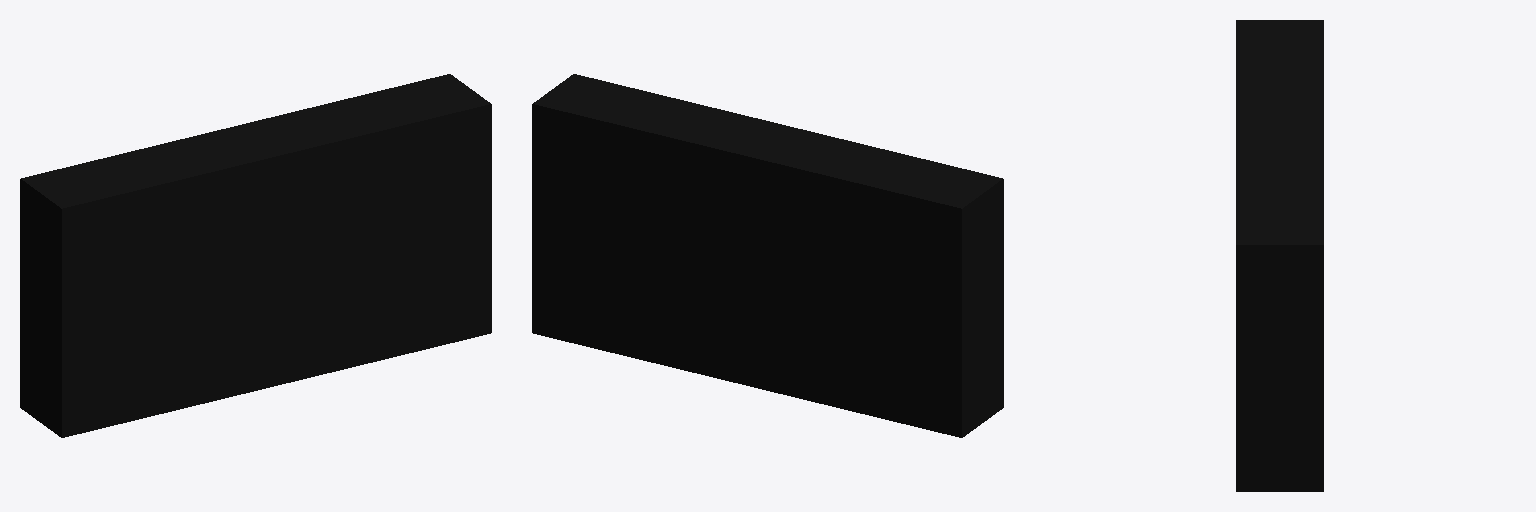
URDF robot description (rhex):
<?xml version="1.0" ?>

<robot name="rhex">
	<link name="body">
		<collision group="default">
        	<origin rpy="0 0 0" xyz="0 0 0"/>
        	<geometry>
    			<box size="0.960 .160 .490"/>
        	</geometry>
      		</collision>
		<inertial>
		<mass value="40" />
  		<inertia ixx="3.29" ixy="0" ixz="0" iyy="3.16" iyz="0" izz="6.27" />
		</inertial>
  		<visual>
          	<origin rpy="0 0 0" xyz="0 0 0"/>
          	<geometry>
            	<box size="0.960 .160 .490"/>
          	</geometry>
			<material name="darkgray">
    			<color rgba="0.1 0.1 0.1 1.0"/>
  			</material>
  		</visual>
  	</link>

</robot>

--- Render facts (derived) ---
Views: 3 orthographic renders of the robot side by side, from view 1: azimuth 30°, elevation 25°; view 2: azimuth 150°, elevation 25°; view 3: azimuth 270°, elevation 25°.
Model rhex with 1 links and 0 joints (none), rooted at body, posed all joints at 0.
Links seen in each view (by area): view 1: body; view 2: body; view 3: body.
Link boxes in pixels (x1=…): body: x1=20, y1=74, x2=491, y2=437; body: x1=532, y1=74, x2=1003, y2=437; body: x1=1236, y1=20, x2=1323, y2=491.
Bounding box of the posed robot: 0.96 × 0.16 × 0.49 m (x, y, z).
Geometry: primitives only (box / cylinder / sphere), no mesh files.
